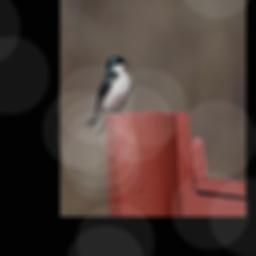Swallow: (84, 55, 134, 135)
